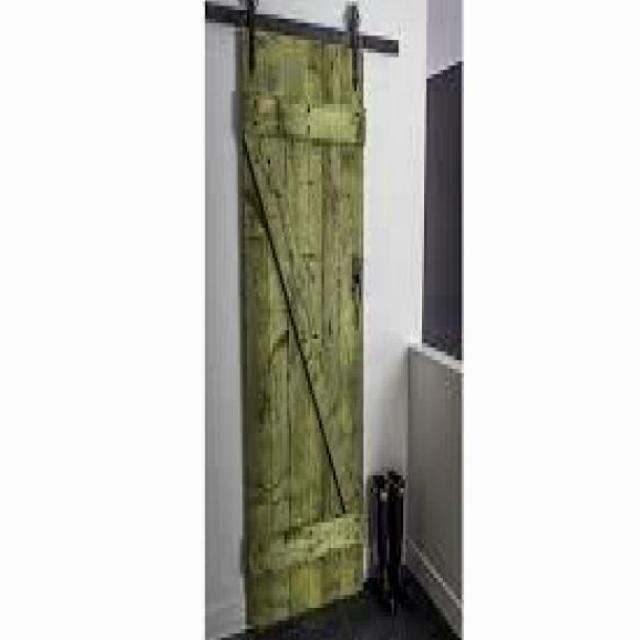door: (223, 0, 382, 635)
